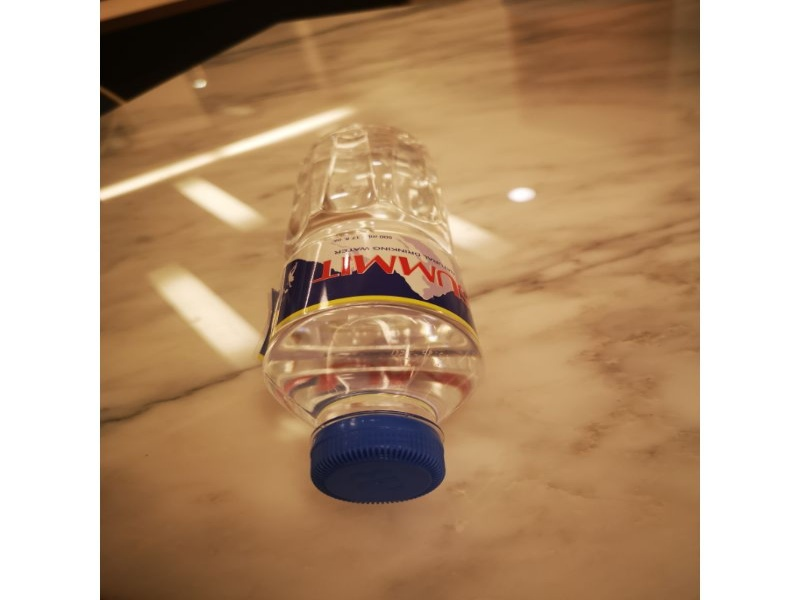PET #1: (266, 122, 483, 511)
